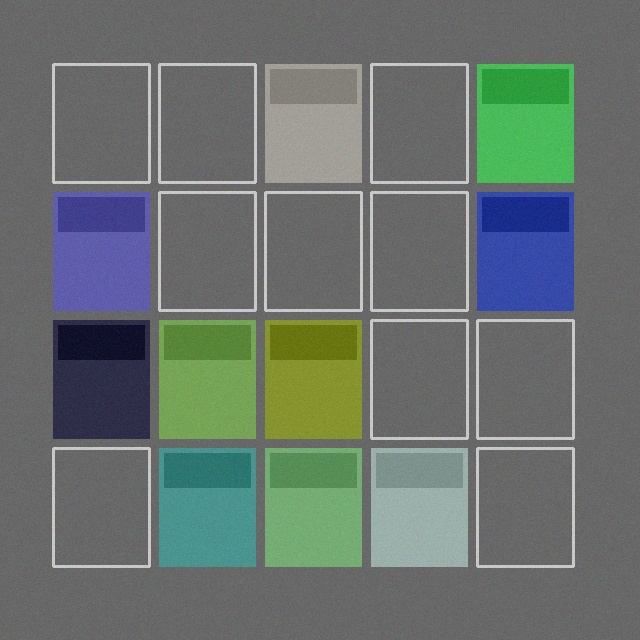space-empty: (53, 64, 149, 182), (159, 64, 255, 182), (371, 64, 467, 182), (159, 192, 255, 310), (265, 192, 361, 310), (371, 192, 467, 310), (371, 320, 467, 438), (477, 320, 573, 438), (53, 448, 149, 566), (477, 448, 573, 566)
space-occupied: (265, 64, 361, 182), (477, 64, 573, 182), (53, 192, 149, 310), (477, 192, 573, 310), (53, 320, 149, 438), (159, 320, 255, 438), (265, 320, 361, 438), (159, 448, 255, 566), (265, 448, 361, 566), (371, 448, 467, 566)
